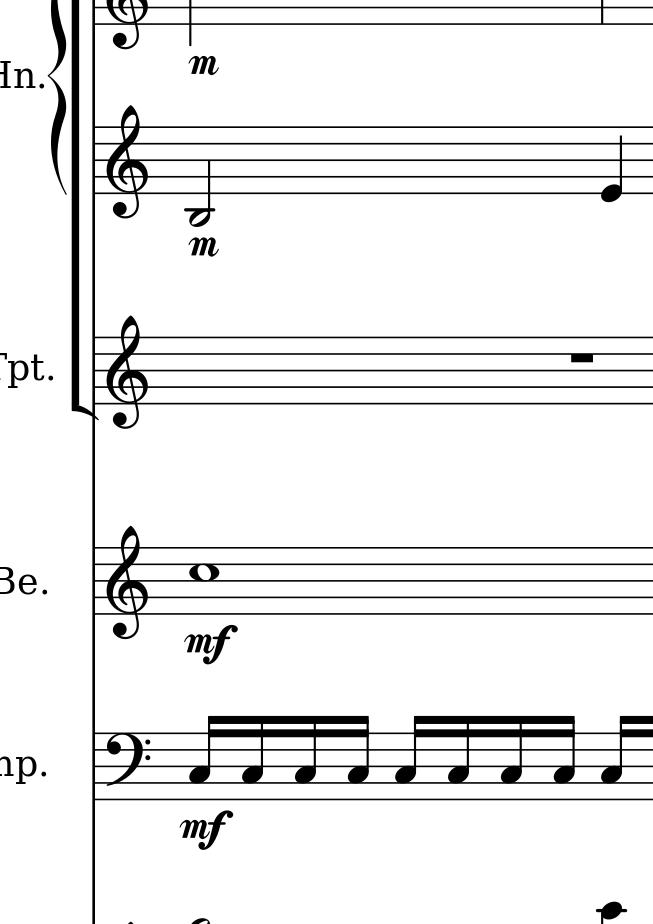16_3: (393, 713, 429, 801), (188, 712, 223, 801), (600, 709, 633, 803), (498, 712, 525, 803), (444, 712, 471, 802), (551, 713, 577, 802), (294, 712, 319, 801), (241, 713, 266, 801), (348, 712, 371, 802)
1_5: (188, 544, 220, 616)
2_-3: (186, 124, 213, 227)
4_0: (599, 125, 625, 204)
Fclef: (103, 733, 151, 786)
Gclef: (103, 310, 156, 435), (103, 102, 154, 227), (104, 521, 151, 643)
Rests1: (564, 349, 602, 368)
Single_barline: (86, 336, 106, 405), (87, 732, 103, 801), (87, 546, 102, 614), (88, 127, 101, 193)
m: (187, 233, 226, 262), (185, 50, 219, 82)
mf: (181, 809, 231, 858), (186, 623, 240, 665)
